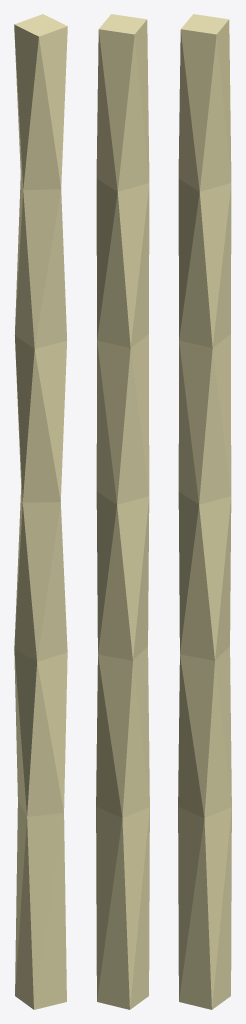
Rendered from Seaweed_03.fbx.
3 views of the same model, side by side, from view 1: azimuth 30°, elevation 25°; view 2: azimuth 150°, elevation 25°; view 3: azimuth 330°, elevation 25° (orthographic).
Visible parts, largest first — view 1: Seaweed_03; view 2: Seaweed_03; view 3: Seaweed_03.
Boxes of the visible parts, x1=… form: Seaweed_03: x1=14, y1=14, x2=67, y2=1009; Seaweed_03: x1=96, y1=14, x2=149, y2=1009; Seaweed_03: x1=178, y1=14, x2=231, y2=1009.
Size of the model in its own units: 0.0448 by 0.9361 by 0.0448.
